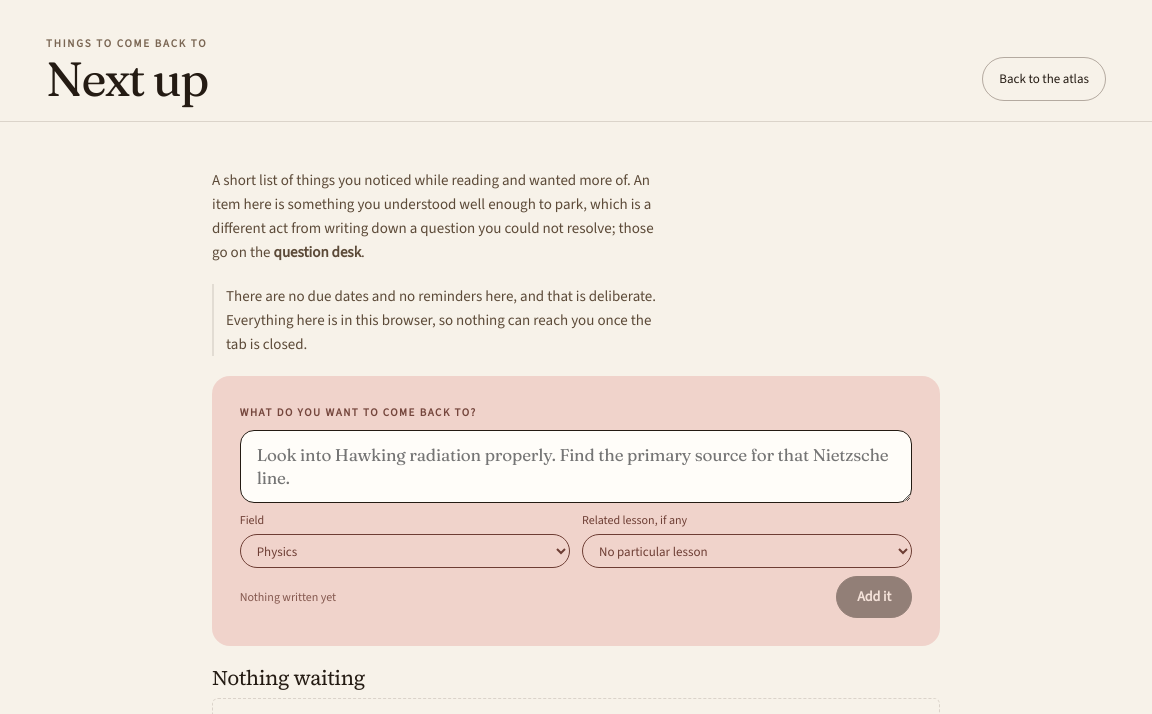
Test case: adds an item and shows it
Replace the text in the text box labelled "What do you want to come back to?" with "Look into Hawking radiation properly": (576, 466) left=240, top=430, right=912, bottom=503
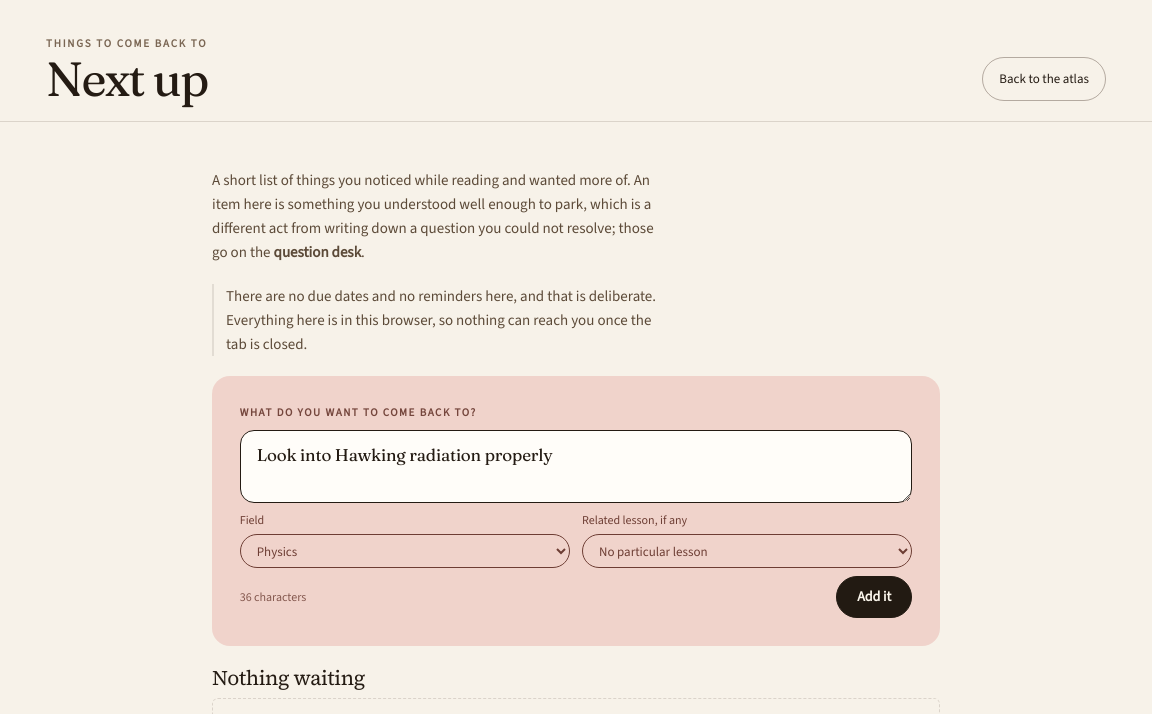
Click the button "Add it": (874, 597) left=836, top=576, right=912, bottom=618
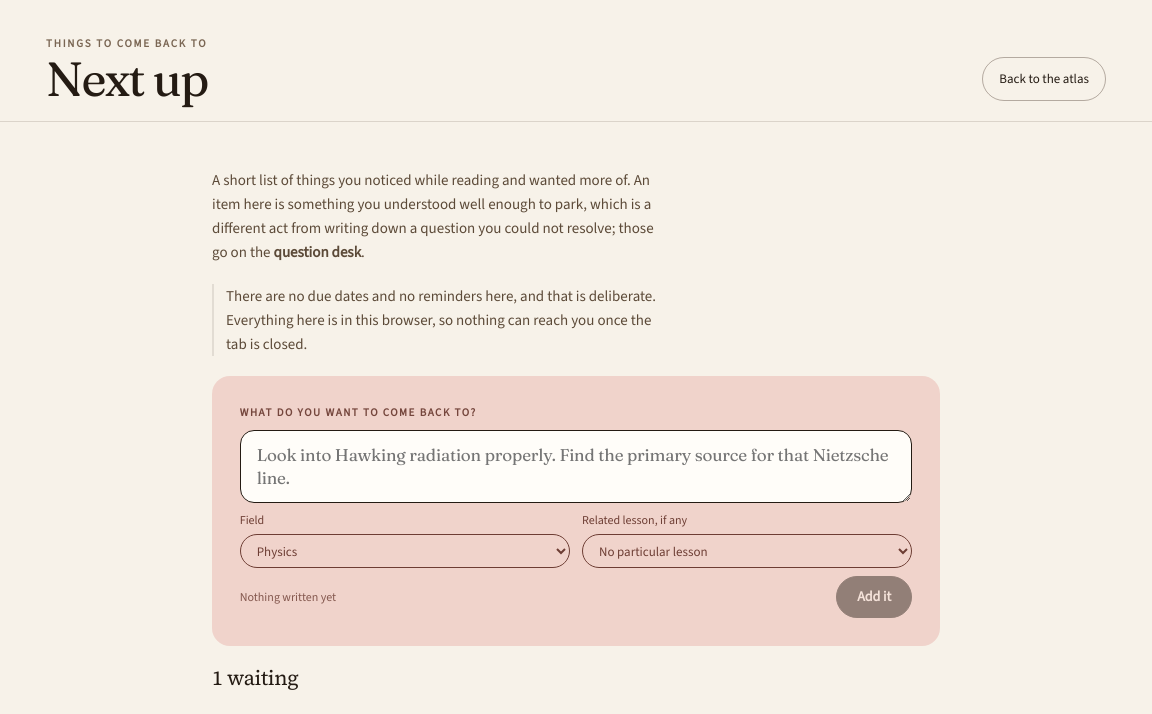
Now the heading "1 waiting" is shown, box left=212, top=663, right=298, bottom=692
Now the text box labelled "What do you want to come back to?" is empty, box left=240, top=430, right=912, bottom=503
